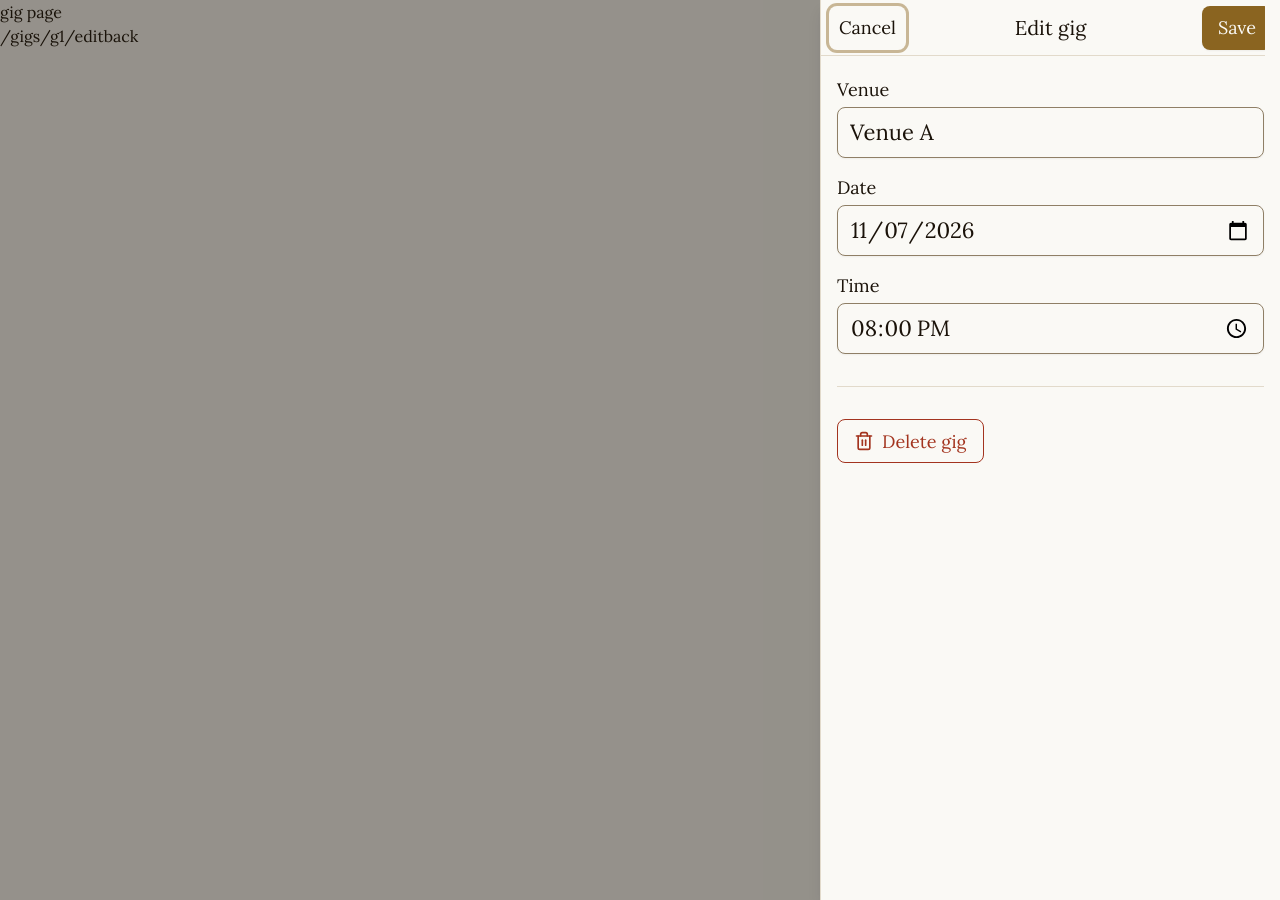
GigEdit › cancels an edit opened directly back to the gig page without saving
Click the button "Cancel" at (867, 28), box [829,6,906,50]
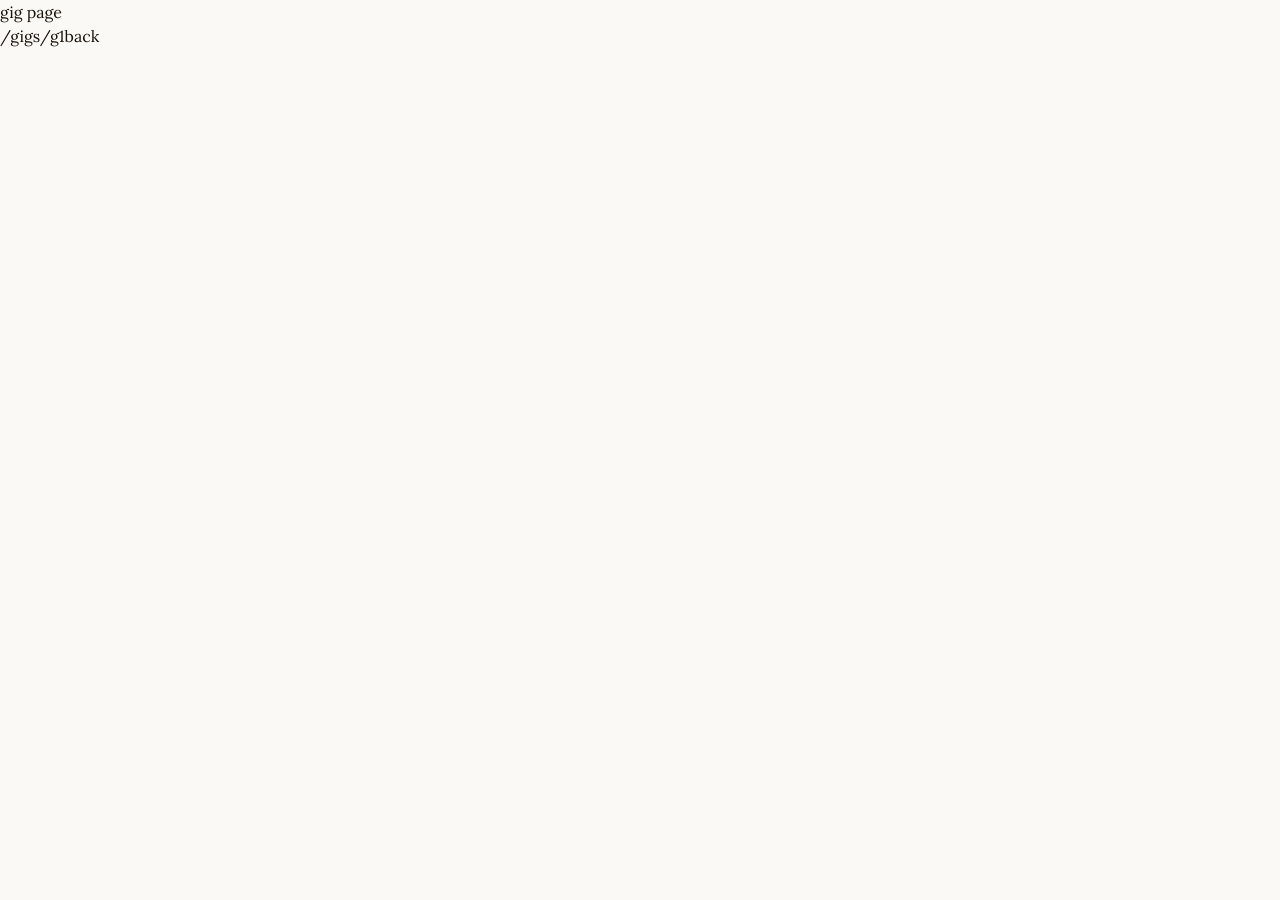
Check: the text "gig page" is shown, box [0,2,62,22]
Check: the dialog is gone
